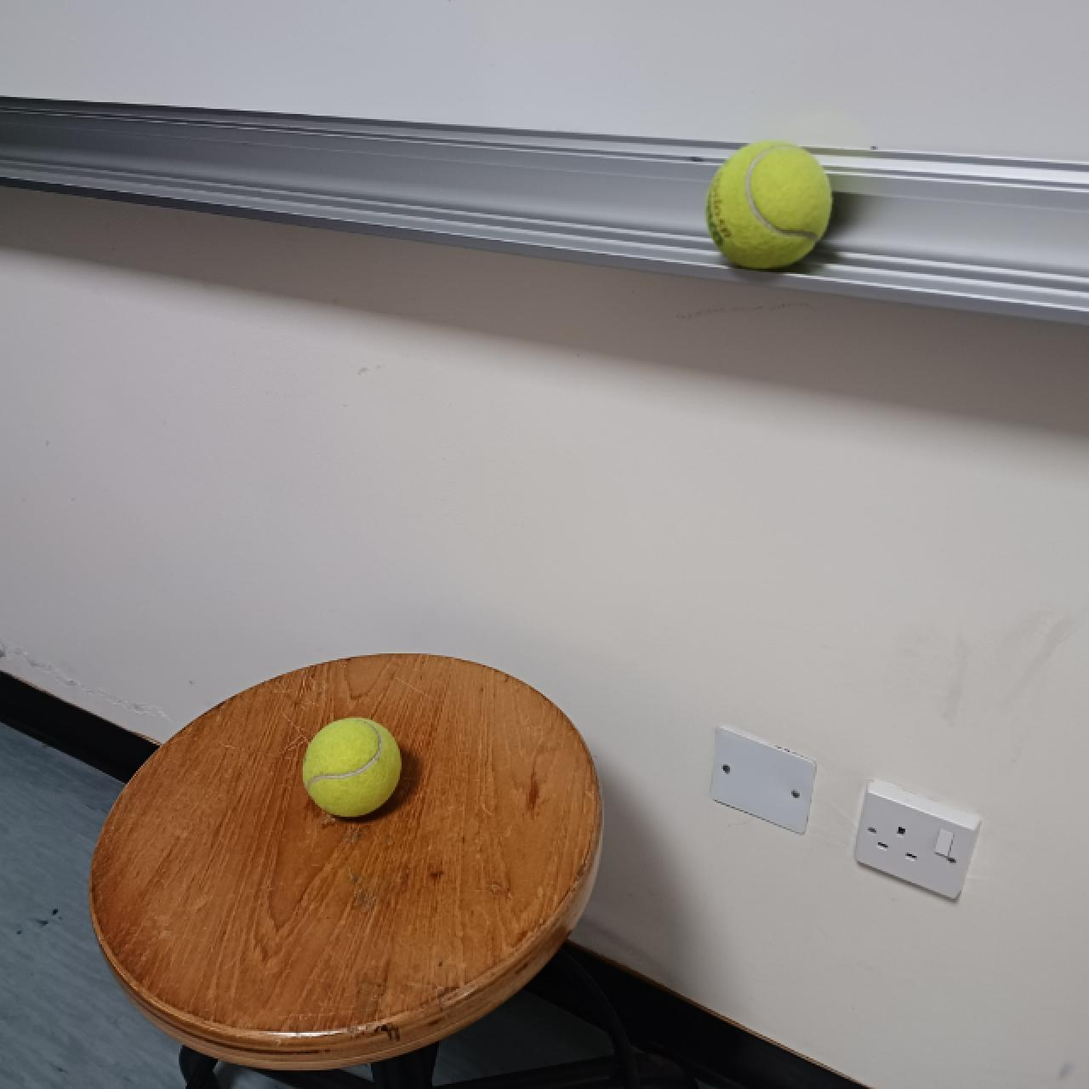tennis-ball: (707, 139, 832, 274), (303, 715, 402, 817)
